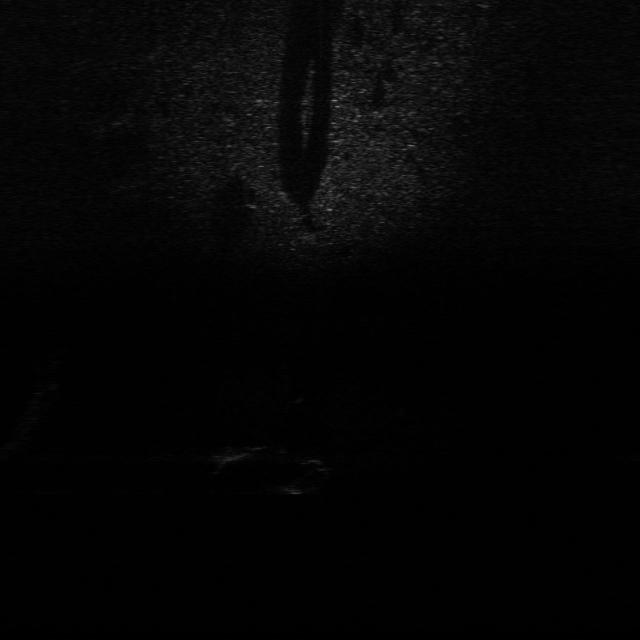square cage: (203, 436, 266, 470)
tyre: (270, 457, 334, 496)
